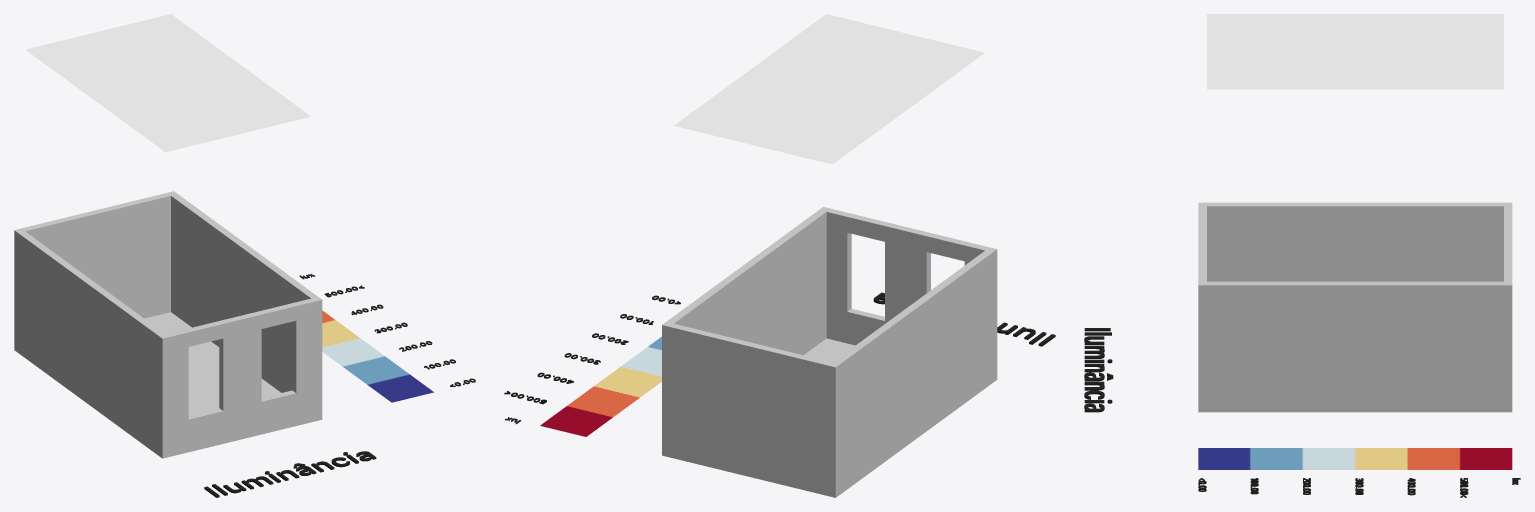
The model's file is Prototipo1.dae.
3 renders of one model, left to right at view 1: azimuth 30°, elevation 25°; view 2: azimuth 150°, elevation 25°; view 3: azimuth 270°, elevation 25°, orthographic. The views are drawn at different scales.
Parts seen in each view (by area): view 1: group_0 (×4), image_0, image_1; view 2: group_0 (×2), image_0, image_1; view 3: group_0 (×2), image_0, image_1.
Boxes of the visible parts, box(x1,y1,x2,y2) form: group_0 (×4): box(14, 191, 322, 458); image_0: box(25, 14, 310, 152); image_1: box(322, 310, 433, 402); group_0 (×2): box(662, 207, 997, 497); image_0: box(674, 14, 984, 164); image_1: box(540, 336, 661, 436); group_0 (×2): box(1198, 202, 1512, 412); image_0: box(1207, 14, 1503, 89); image_1: box(1198, 448, 1512, 469).
Bounding box in the file's own units: 369 × 405 × 327.
3 materials, 1 textured.
